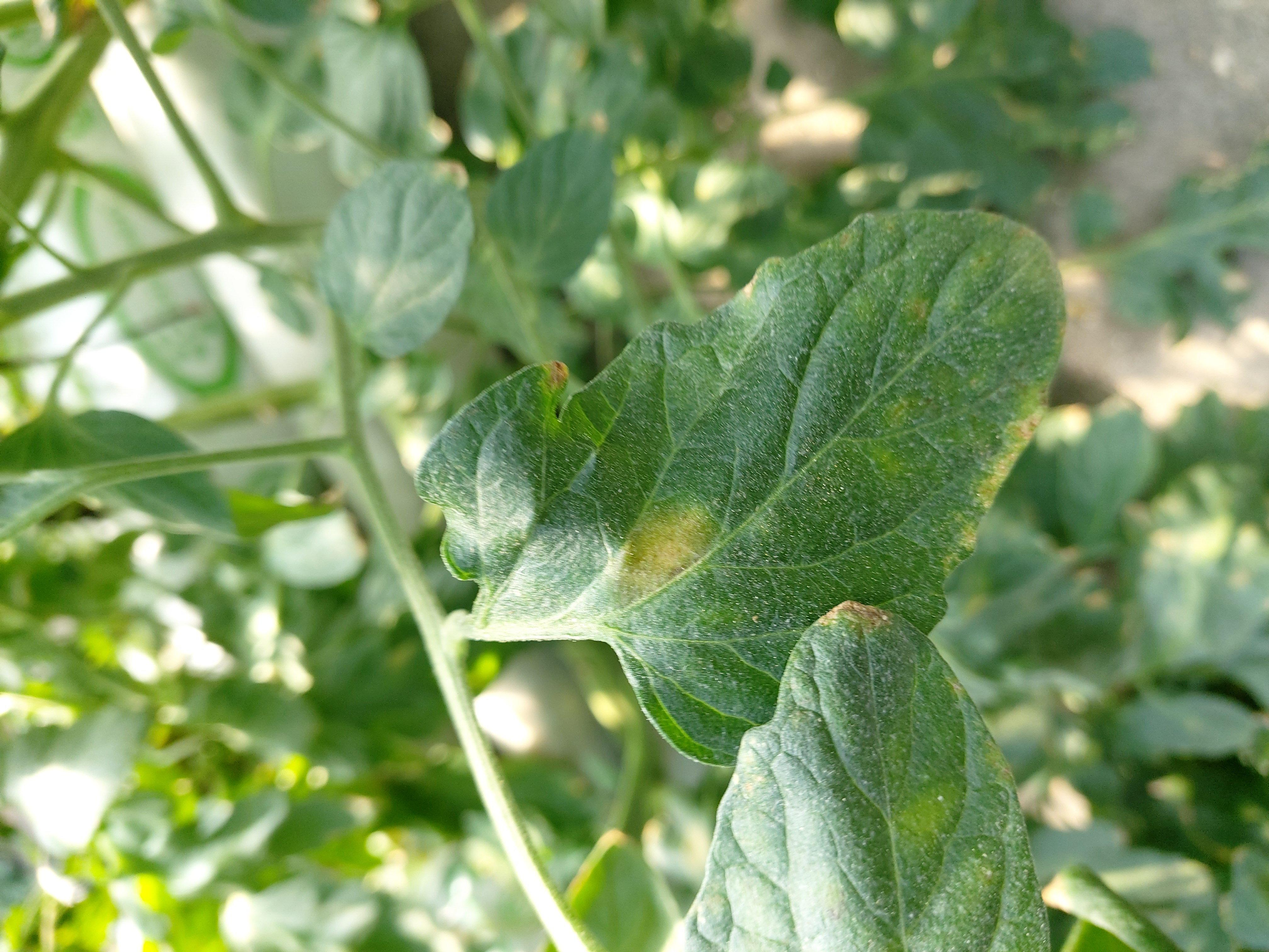Leaf Mold: (414, 204, 1069, 765), (662, 601, 1050, 952), (319, 158, 473, 359)
